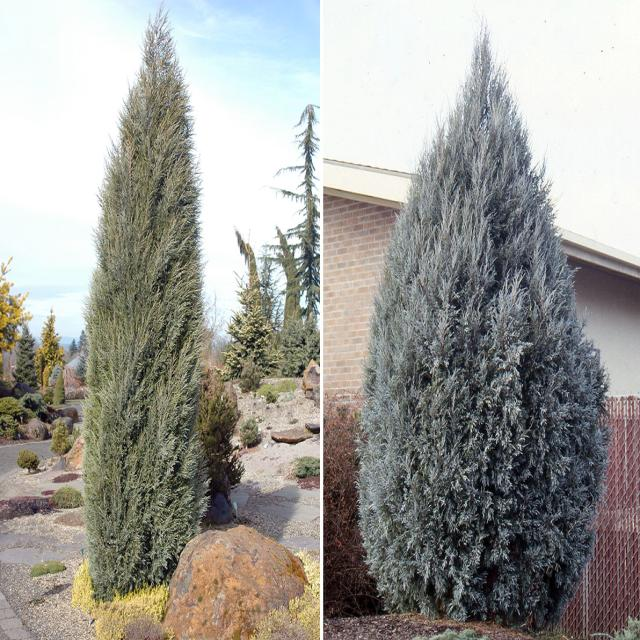Juniperus scopulorum: (353, 19, 612, 633), (82, 2, 216, 599)
